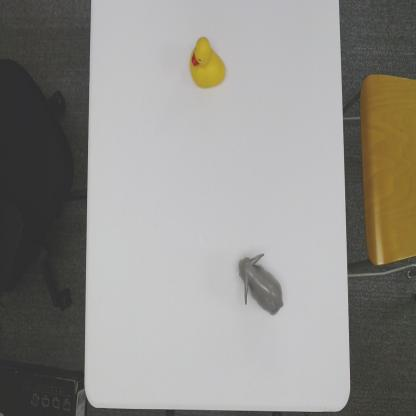Duck: (188, 34, 227, 90)
Elephant: (237, 252, 284, 318)
